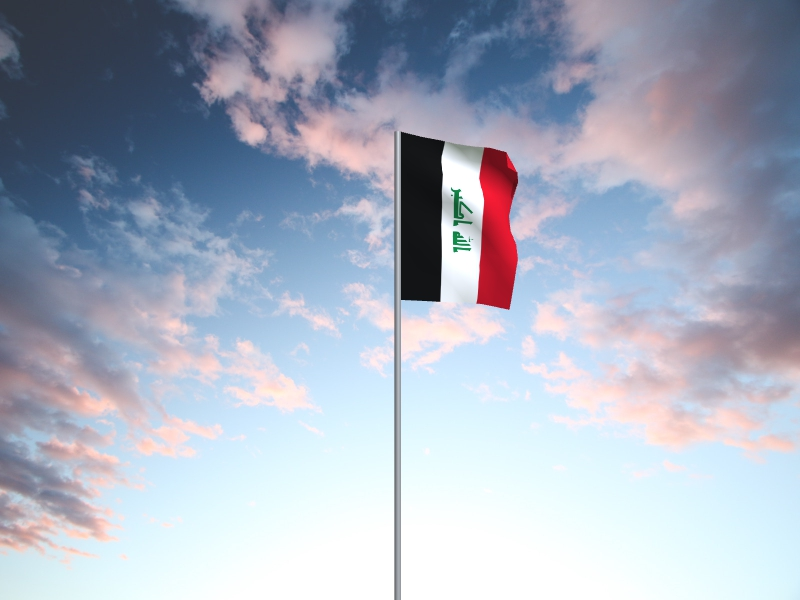iq: (401, 132, 520, 311)
